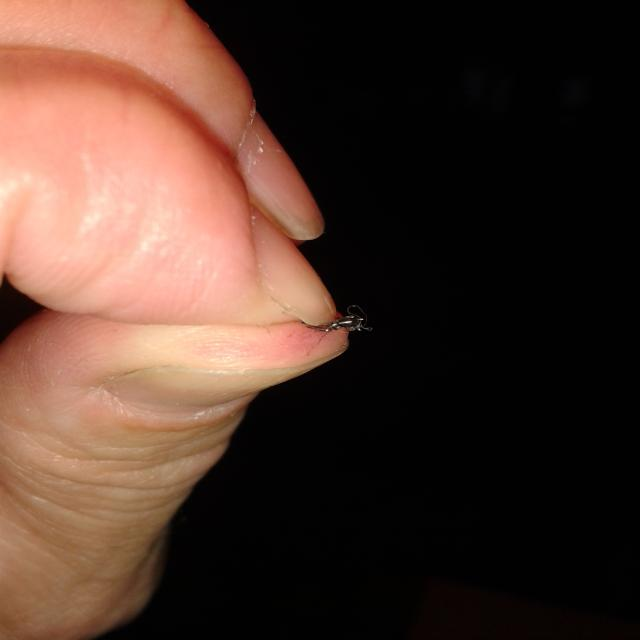albopictus: (246, 288, 374, 344)
